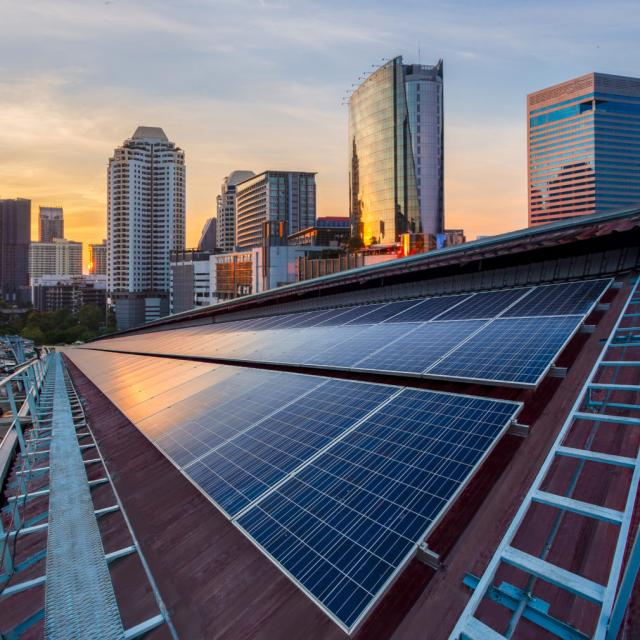clean-solar-panel: (103, 370, 521, 632)
